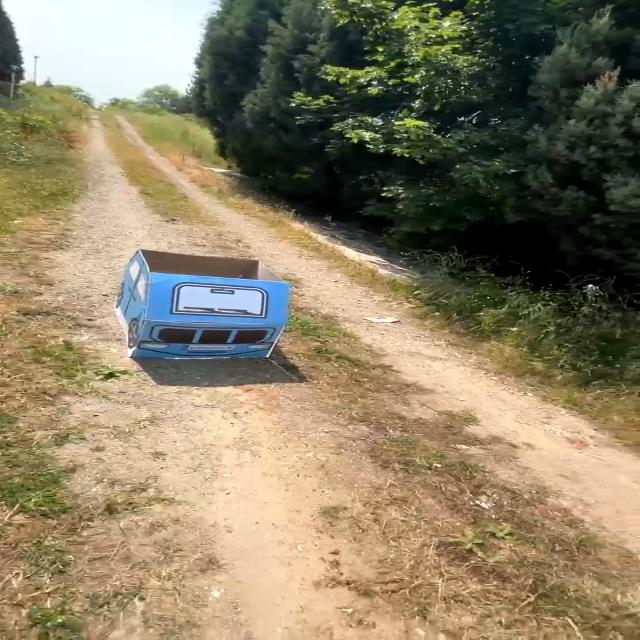blue_car: (70, 231, 320, 375)
